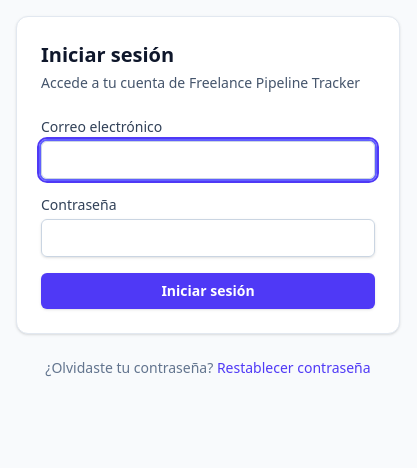
Test: Página /login — wiring real por defecto (F05-T01) › muestra un error genérico si falla la conexión y lo limpia al reintentar
Type "usuaria@example.com" into the field labelled "Correo electrónico".
click(208, 160); type("usuaria@example.com")  # box left=41, top=141, right=375, bottom=179
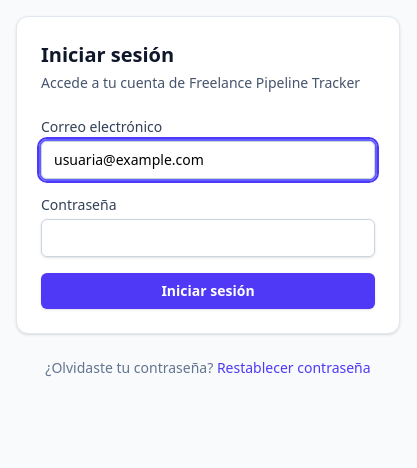
Type "Segura1234" into the password field labelled "Contraseña".
click(208, 238); type("Segura1234")  # box left=41, top=219, right=375, bottom=257
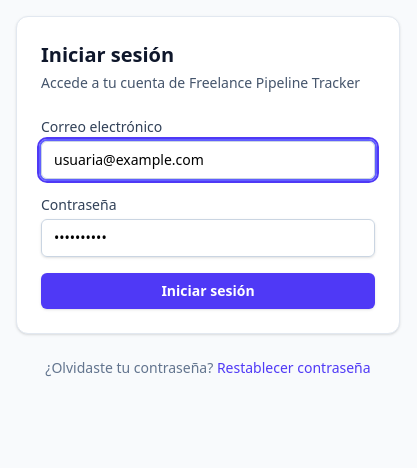
Click the button "Iniciar sesión".
click(208, 291)  # box left=41, top=273, right=375, bottom=309
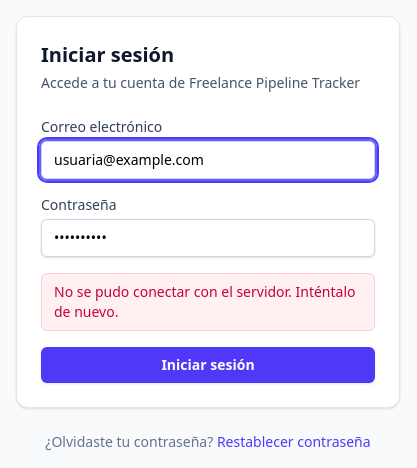
Result: the text "No se pudo conectar con el servidor. Inténtalo de nuevo." is shown at left=41, top=273, right=375, bottom=331
Click the button "Iniciar sesión".
click(208, 365)  # box left=41, top=347, right=375, bottom=383
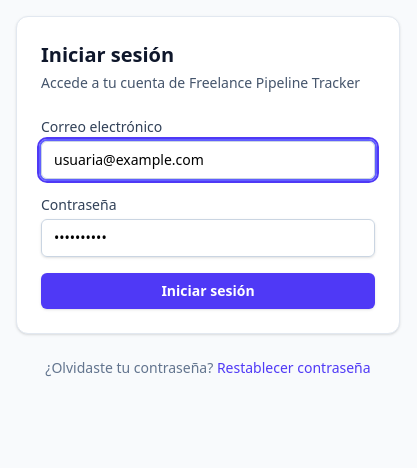
Result: the text "No se pudo conectar" is gone
